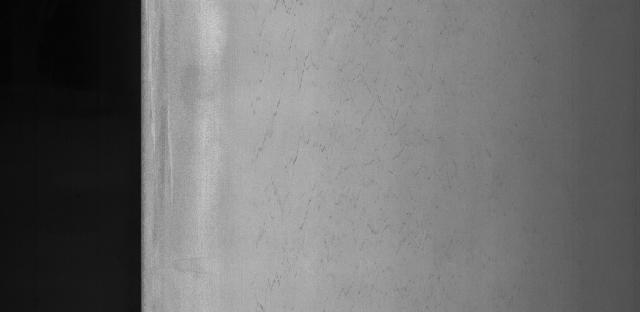silk_spot: (245, 0, 419, 287)
